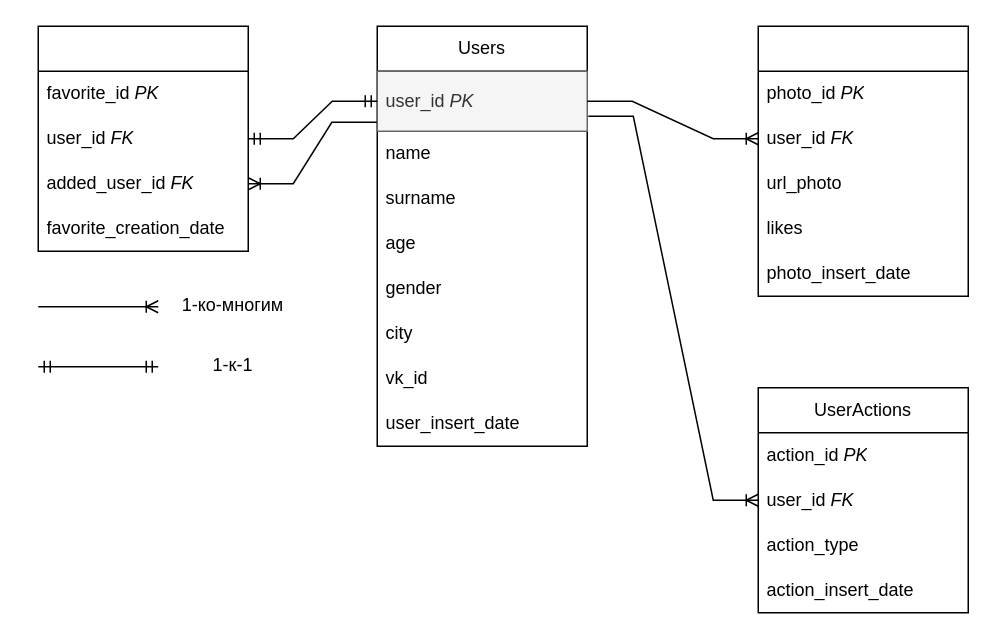
The diagram is 995 pixels wide and 639 high, and some of its shapes have lost their labels. The shapes that lost their labels are listed below. From the top down, each one's box as (x1, y1, x2, y2) in pixels, then its label:
(37, 25, 248, 251): Favorites
(757, 25, 968, 296): Photos
